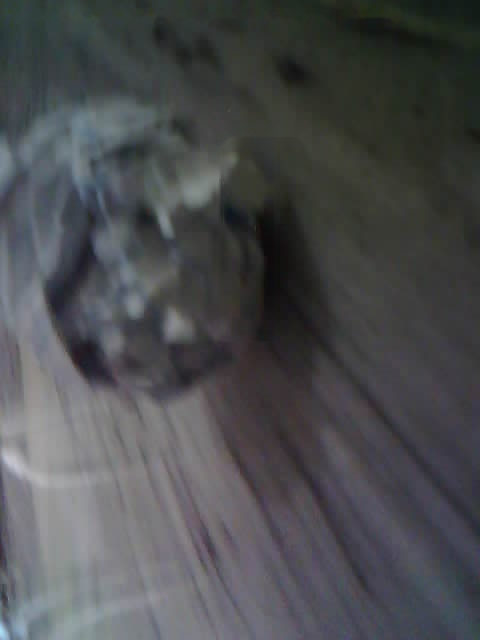paper: (30, 110, 265, 415)
